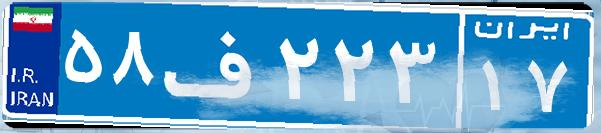1: (475, 38, 525, 113)
2: (273, 28, 330, 110), (330, 28, 385, 110)
3: (385, 28, 445, 110)
5: (57, 26, 110, 107)
7: (525, 38, 570, 115)
8: (110, 28, 158, 105)
ف: (158, 15, 273, 115)
